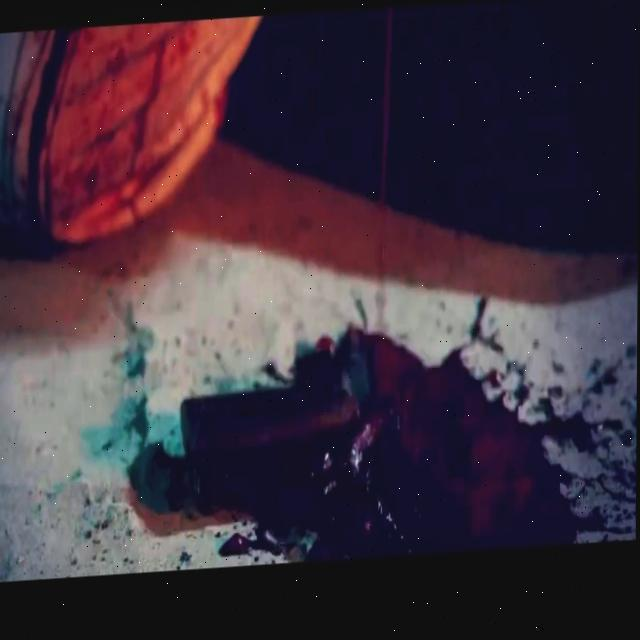knife: (357, 325, 576, 566)
